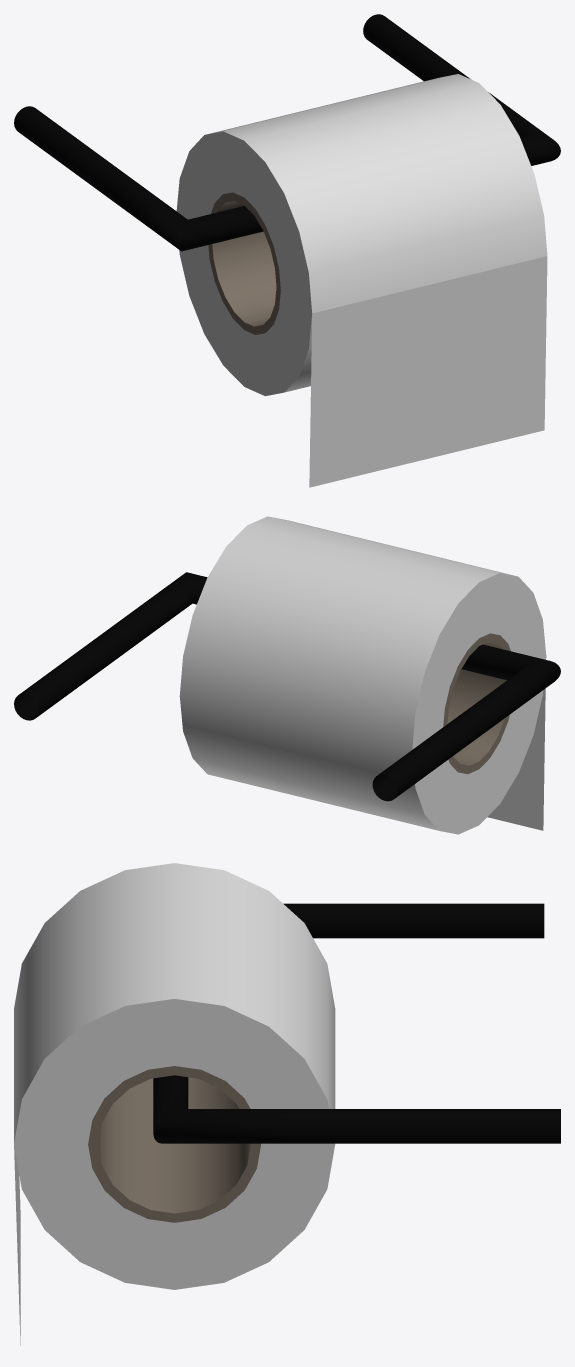
File: Toilet_Paper.fbx
3 views of the same model, one above another, from view 1: azimuth 30°, elevation 25°; view 2: azimuth 150°, elevation 25°; view 3: azimuth 270°, elevation 25° (orthographic). The views are drawn at different scales.
Parts seen in each view (by area): view 1: extrudedSurface2; view 2: extrudedSurface2; view 3: extrudedSurface2.
Boxes of the visible parts, x1,y1,x2,y2 form: extrudedSurface2: (14,14,560,487); extrudedSurface2: (14,516,560,834); extrudedSurface2: (14,863,560,1345).
Size of the model in its own units: 1.03 by 0.7759 by 1.09.
